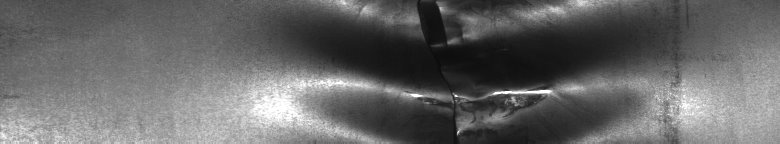ke: (304, 4, 593, 136)
